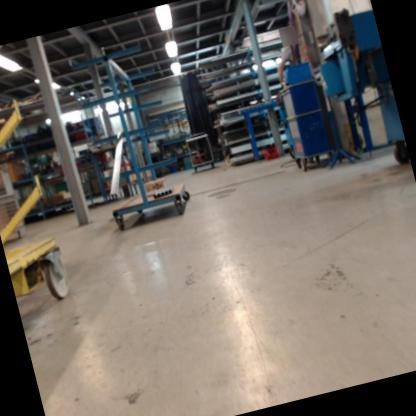stillage: (0, 158, 33, 246)
